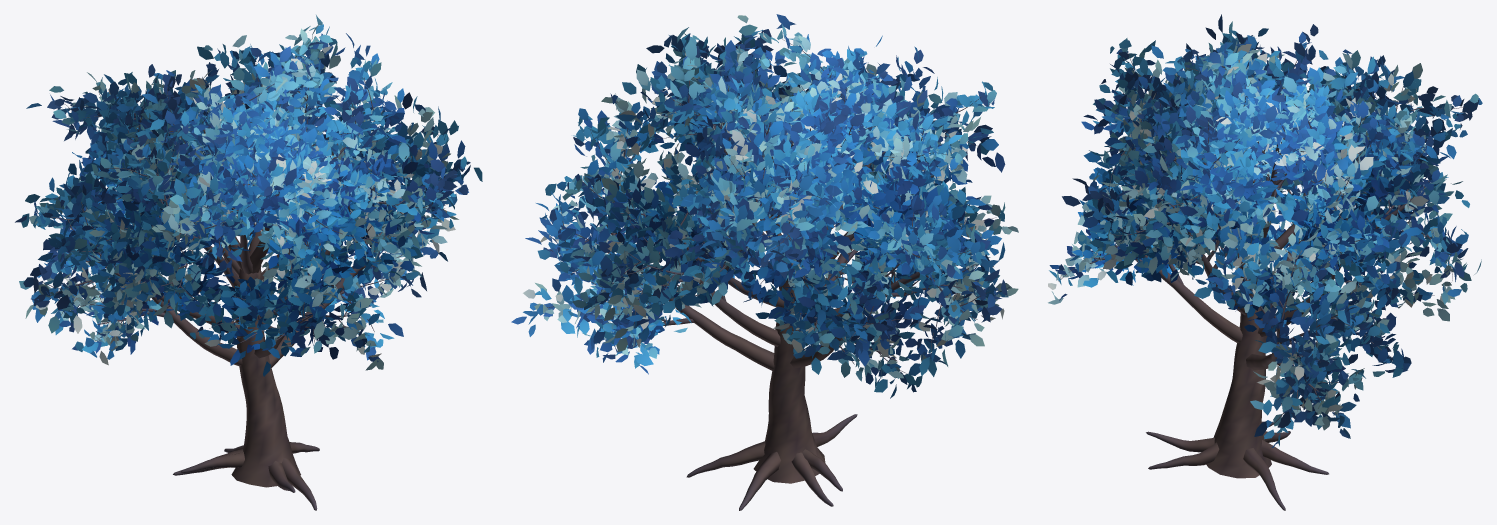
The model's file is blue_tree.web.glb.
3 views of the same model, side by side, from view 1: azimuth 30°, elevation 25°; view 2: azimuth 150°, elevation 25°; view 3: azimuth 270°, elevation 25° (orthographic). The views are drawn at different scales.
Visible parts, largest first — view 1: Bough_03_Leaves, Bough_05_Leaves, Bough_08_Leaves, Bough_11_Leaves, Bough_06_Leaves, Bough_14_Leaves, Bough_13_Leaves, Bough_09_Leaves, Trunk, Bough_12_Leaves, Bough_01_Leaves, Bough_10_Leaves (+8 smaller); view 2: Bough_10_Leaves, Bough_07_Leaves, Bough_02_Leaves, Bough_01_Leaves, Bough_05_Leaves, Bough_12_Leaves, Bough_13_Leaves, Bough_08_Leaves, Bough_04_Leaves, Trunk, Bough_11_Leaves, Bough_14_Leaves (+7 smaller); view 3: Bough_01_Leaves, Bough_04_Leaves, Bough_07_Leaves, Bough_09_Leaves, Bough_12_Leaves, Bough_06_Leaves, Trunk, Bough_10_Leaves, Bough_13_Leaves, Bough_14_Leaves, Bough_11_Leaves, Bough_03_Leaves (+6 smaller).
Boxes of the visible parts, x1,y1,x2,y2 form: Bough_03_Leaves: (189, 178, 383, 376); Bough_05_Leaves: (19, 163, 232, 365); Bough_08_Leaves: (49, 110, 222, 332); Bough_11_Leaves: (152, 106, 347, 287); Bough_06_Leaves: (297, 110, 468, 282); Bough_14_Leaves: (174, 88, 367, 265); Bough_13_Leaves: (136, 46, 317, 225); Bough_09_Leaves: (264, 33, 415, 253); Trunk: (173, 268, 319, 510); Bough_12_Leaves: (197, 15, 383, 211); Bough_01_Leaves: (305, 92, 482, 360); Bough_10_Leaves: (26, 62, 222, 215); Bough_10_Leaves: (680, 120, 870, 325); Bough_07_Leaves: (572, 142, 779, 326); Bough_02_Leaves: (755, 194, 955, 398); Bough_01_Leaves: (511, 82, 734, 374); Bough_05_Leaves: (857, 162, 1018, 376); Bough_12_Leaves: (615, 15, 830, 216); Bough_13_Leaves: (757, 14, 908, 230); Bough_08_Leaves: (792, 76, 998, 285); Bough_04_Leaves: (571, 134, 734, 362); Trunk: (686, 276, 857, 510); Bough_11_Leaves: (788, 46, 1005, 214); Bough_14_Leaves: (764, 63, 942, 172); Bough_01_Leaves: (1194, 201, 1384, 447); Bough_04_Leaves: (1270, 141, 1451, 377); Bough_07_Leaves: (1304, 100, 1481, 304); Bough_09_Leaves: (1119, 89, 1292, 282); Bough_12_Leaves: (1169, 53, 1357, 200); Bough_06_Leaves: (1062, 138, 1308, 285); Trunk: (1146, 258, 1328, 510); Bough_10_Leaves: (1281, 49, 1482, 218); Bough_13_Leaves: (1151, 24, 1325, 178); Bough_14_Leaves: (1083, 42, 1259, 214); Bough_11_Leaves: (1081, 38, 1273, 206); Bough_03_Leaves: (1048, 129, 1181, 304).
Bounding box in the file's own units: 8.91 × 8.66 × 7.76.
